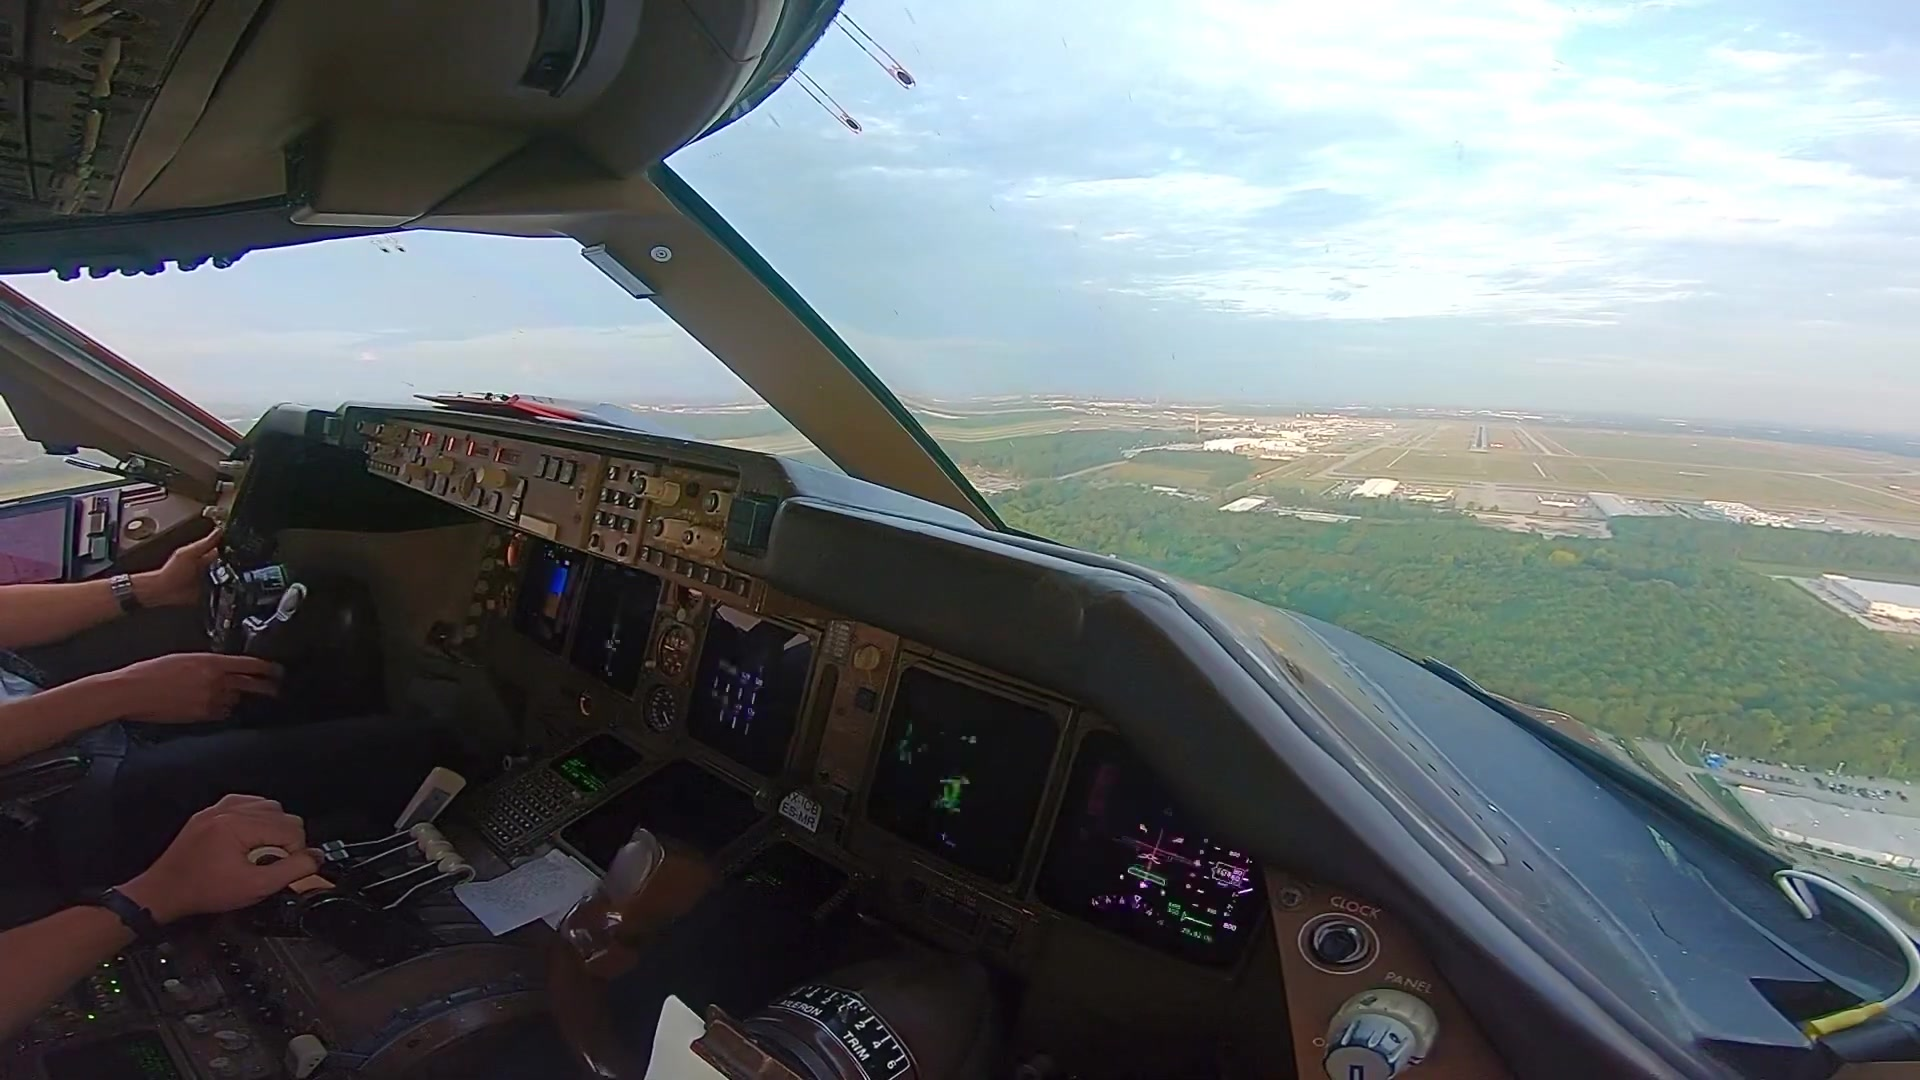runway: (1466, 423, 1490, 454)
